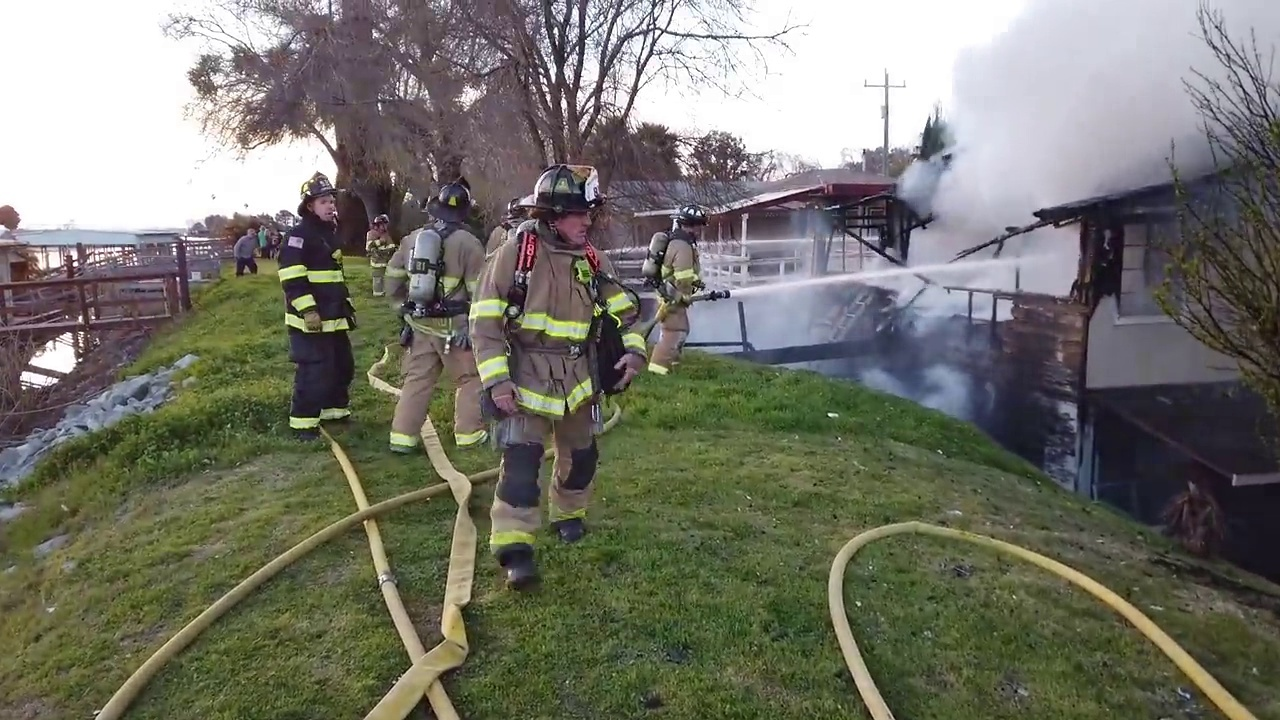smoke: (921, 2, 1250, 235), (898, 278, 1013, 349), (864, 357, 975, 419), (775, 193, 863, 261), (749, 299, 823, 346), (691, 303, 746, 351)
